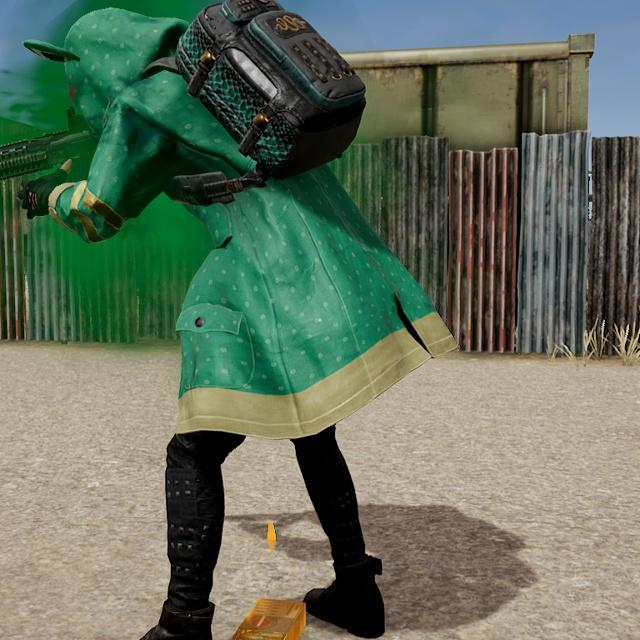head: (60, 5, 186, 129)
people: (53, 2, 402, 640)
